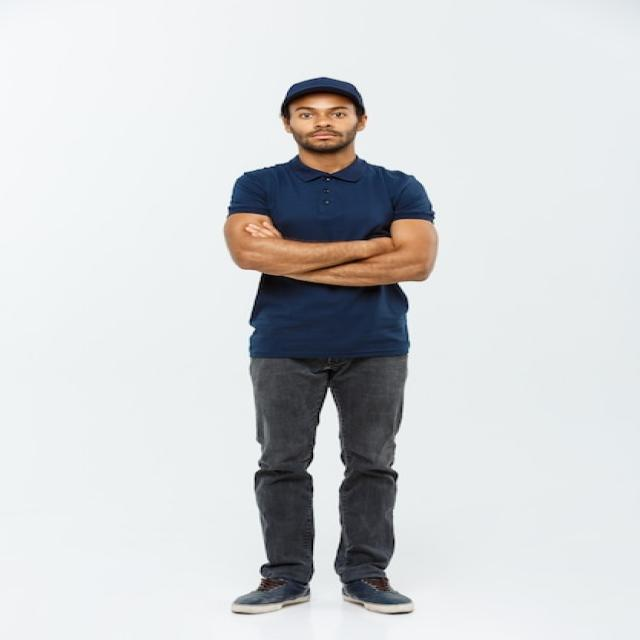Person: (227, 76, 438, 614)
